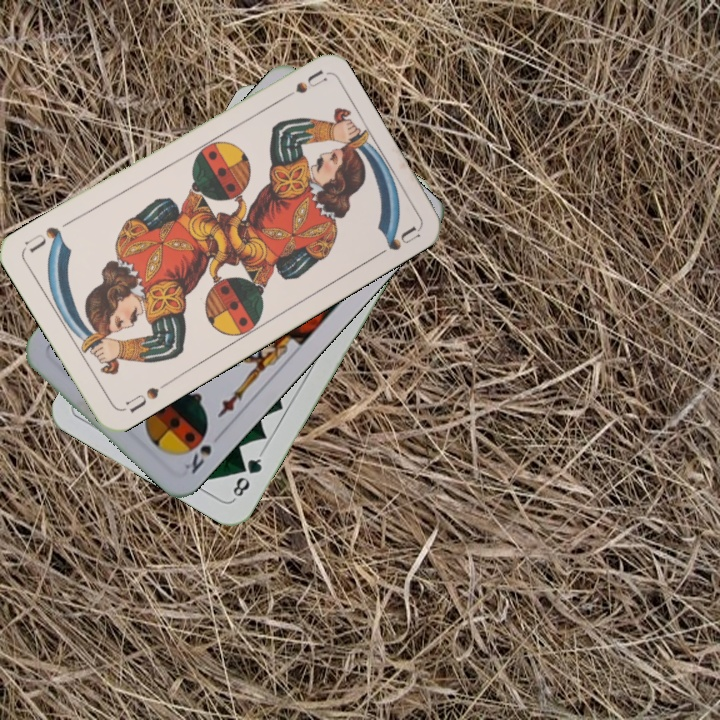G8: (228, 449, 265, 502)
SK: (180, 426, 214, 477)
SU: (271, 67, 327, 107), (121, 377, 172, 416)
